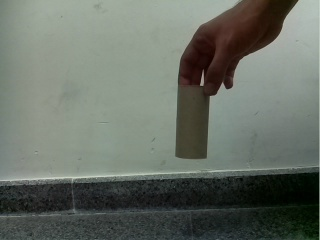rollo papel: (175, 85, 212, 160)
